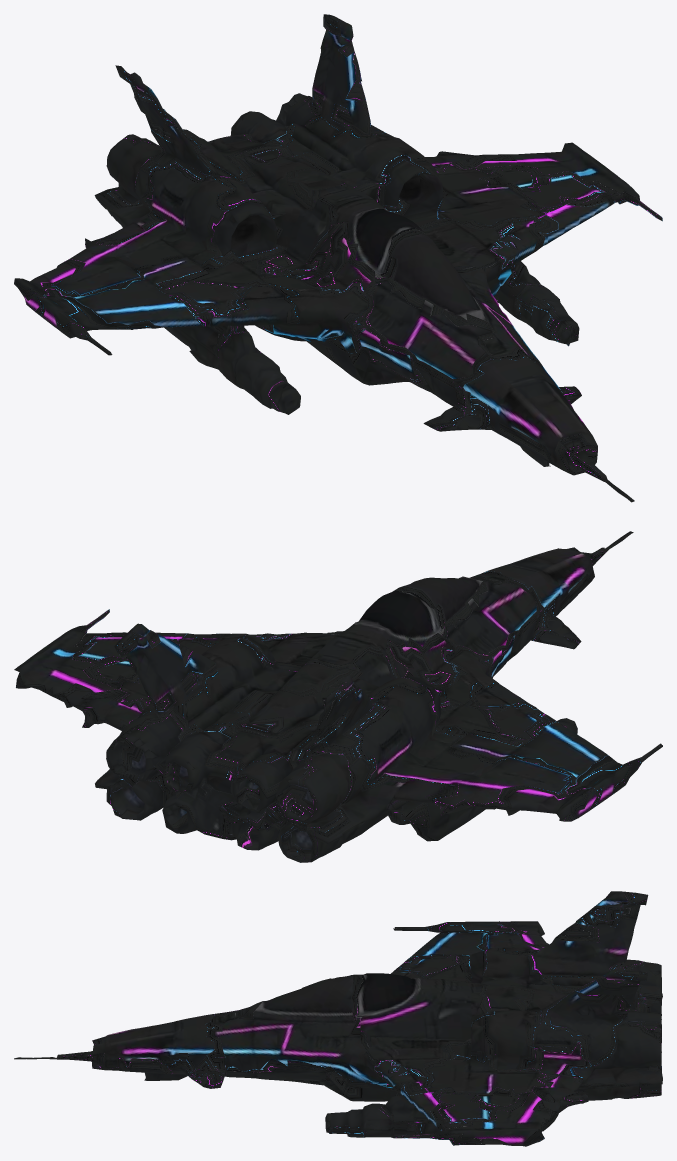
Rendered from ally-a2.glb.
3 renders of one model, top to bottom at view 1: azimuth 30°, elevation 25°; view 2: azimuth 150°, elevation 25°; view 3: azimuth 270°, elevation 25°, orthographic. The views are drawn at different scales.
Parts seen in each view (by area): view 1: body; view 2: body; view 3: body.
Boxes of the visible parts, box(x1,y1,x2,y2) form: body: box(14, 14, 662, 502); body: box(14, 531, 662, 862); body: box(14, 891, 662, 1146).
Bounding box in the file's own units: 0.7683 × 0.2617 × 0.9989.
Materials: 1 (1 with a texture image).
